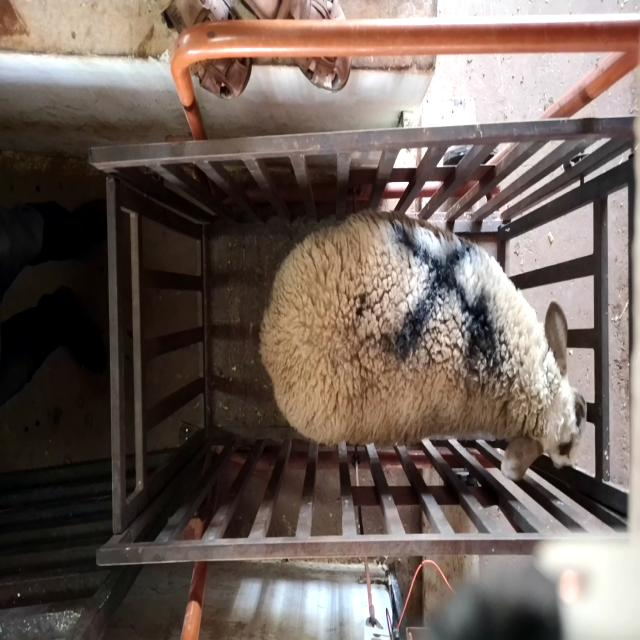sheep: (260, 210, 587, 483)
